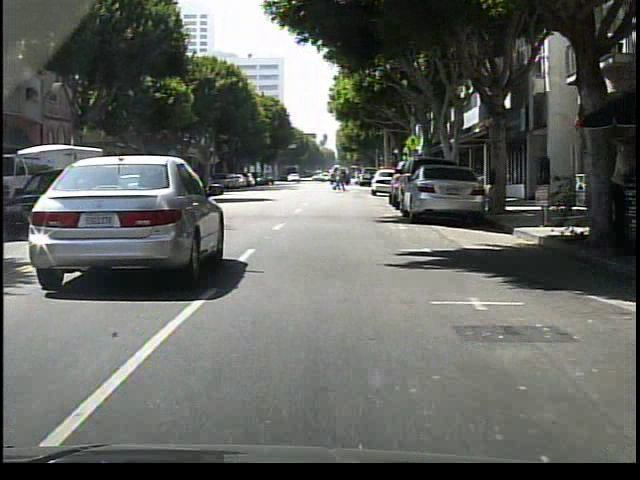person: (599, 135, 639, 243), (332, 168, 347, 193)
